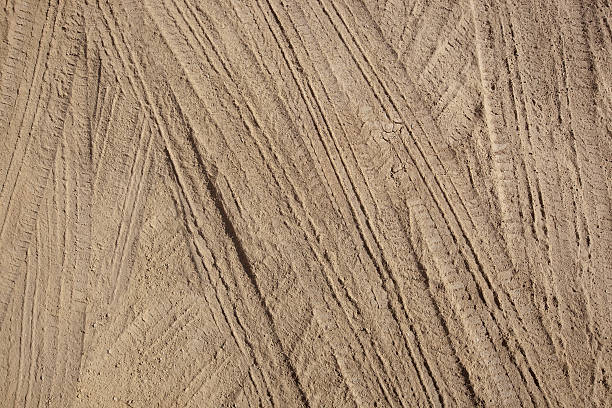vehicle_track: (284, 0, 577, 407), (147, 0, 419, 404), (255, 6, 481, 407), (90, 2, 311, 399), (469, 0, 601, 391), (15, 39, 95, 403), (0, 0, 82, 318)
